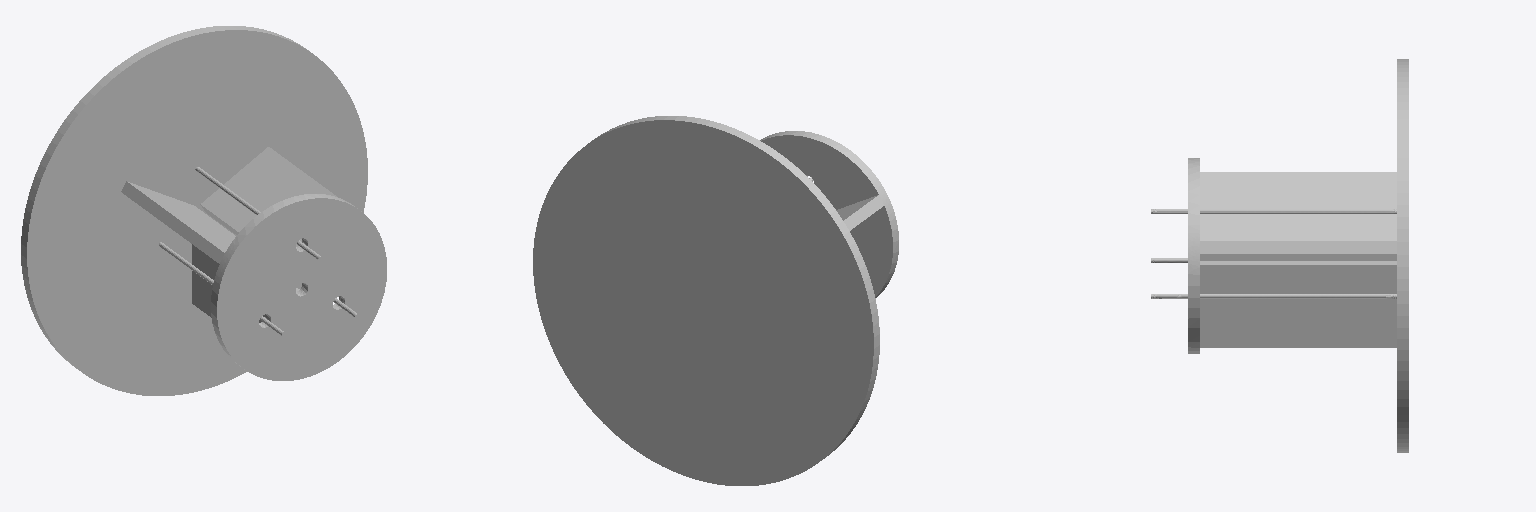
File: arm_base.obj
3 views of the same model, side by side, from view 1: azimuth 30°, elevation 25°; view 2: azimuth 150°, elevation 25°; view 3: azimuth 270°, elevation 25° (orthographic).
Size of the model in its own units: 160 by 160 by 105.